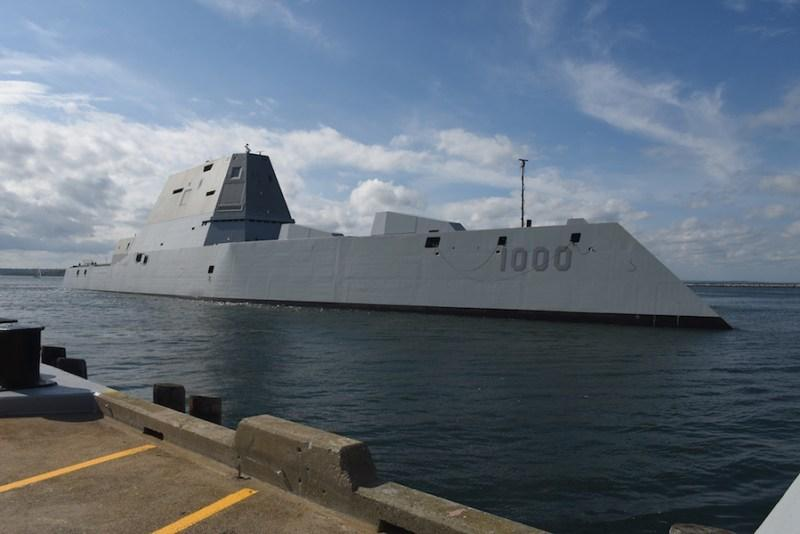MIL_Ship: (59, 142, 762, 336)
